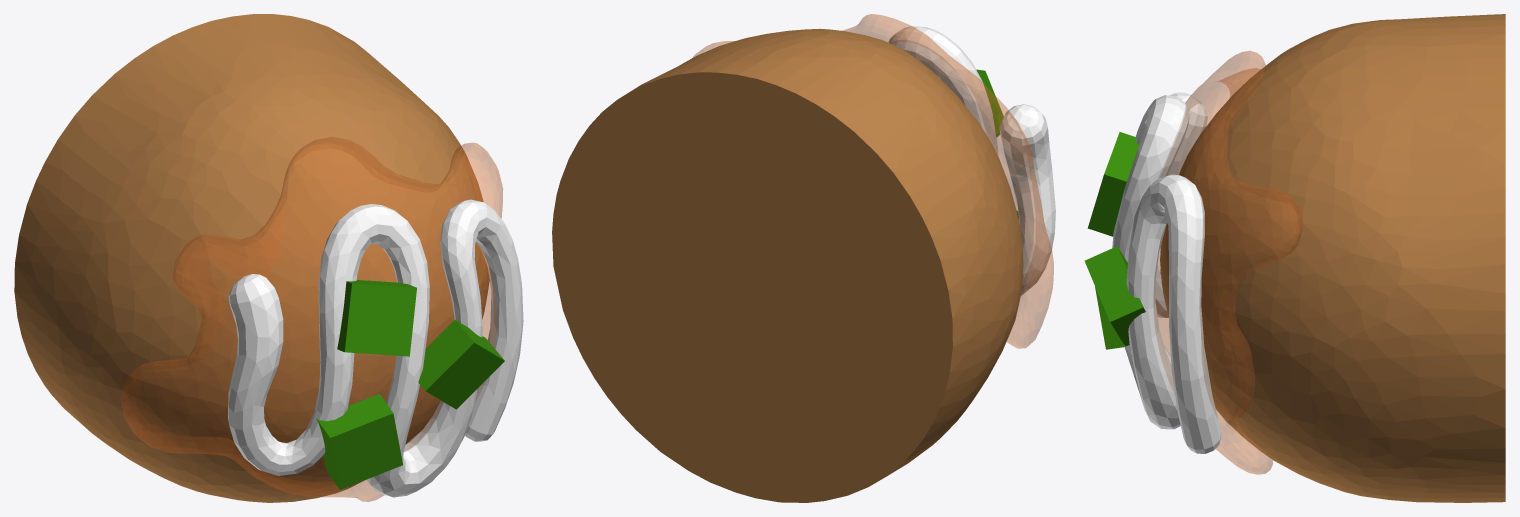
File: takoyaki.glb
3 renders of one model, left to right at view 1: azimuth 30°, elevation 25°; view 2: azimuth 150°, elevation 25°; view 3: azimuth 270°, elevation 25°, orthographic. The views are drawn at different scales.
Visible parts, largest first — view 1: Pick.001, Cube.298, Cube.296, Cube.297; view 2: Pick.001; view 3: Pick.001, Cube.297, Cube.296, Cube.298.
Boxes of the visible parts, left/top/right/bottom form: Pick.001: left=14, top=14, right=523, bottom=502; Cube.298: left=316, top=393, right=402, bottom=489; Cube.296: left=337, top=280, right=416, bottom=356; Cube.297: left=418, top=320, right=504, bottom=409; Pick.001: left=552, top=14, right=1055, bottom=502; Pick.001: left=1112, top=14, right=1505, bottom=502; Cube.297: left=1084, top=246, right=1145, bottom=346; Cube.296: left=1087, top=132, right=1138, bottom=236; Cube.298: left=1095, top=286, right=1124, bottom=349.
Bounding box in the file's own units: 13.49 × 13.64 × 11.62.
